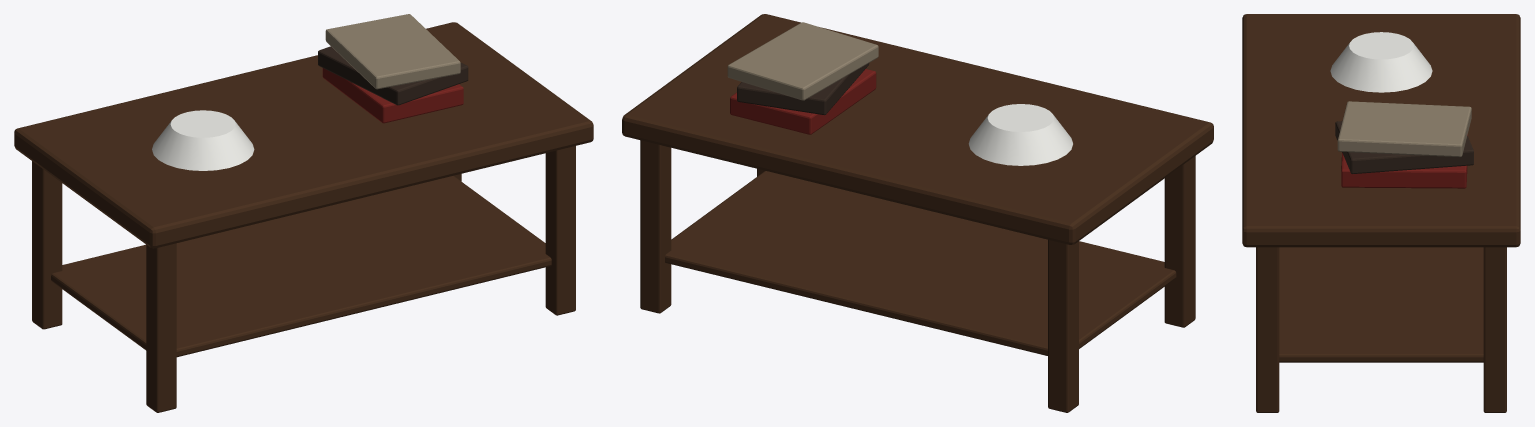
Rendered from coffee_table.glb.
3 views of the same model, side by side, from view 1: azimuth 30°, elevation 25°; view 2: azimuth 150°, elevation 25°; view 3: azimuth 270°, elevation 25° (orthographic). The views are drawn at different scales.
Visible parts, largest first — view 1: coffee_table; view 2: coffee_table; view 3: coffee_table.
Part boxes in pixels (bbox=[...]): coffee_table: bbox=[14, 14, 593, 412]; coffee_table: bbox=[622, 14, 1213, 412]; coffee_table: bbox=[1242, 14, 1520, 412].
Size of the model in its own units: 1.1 by 0.5651 by 0.6.
